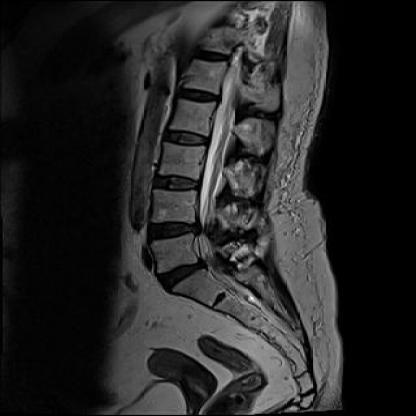Disc Bulgerotation: (155, 261, 207, 286), (143, 219, 199, 241)
